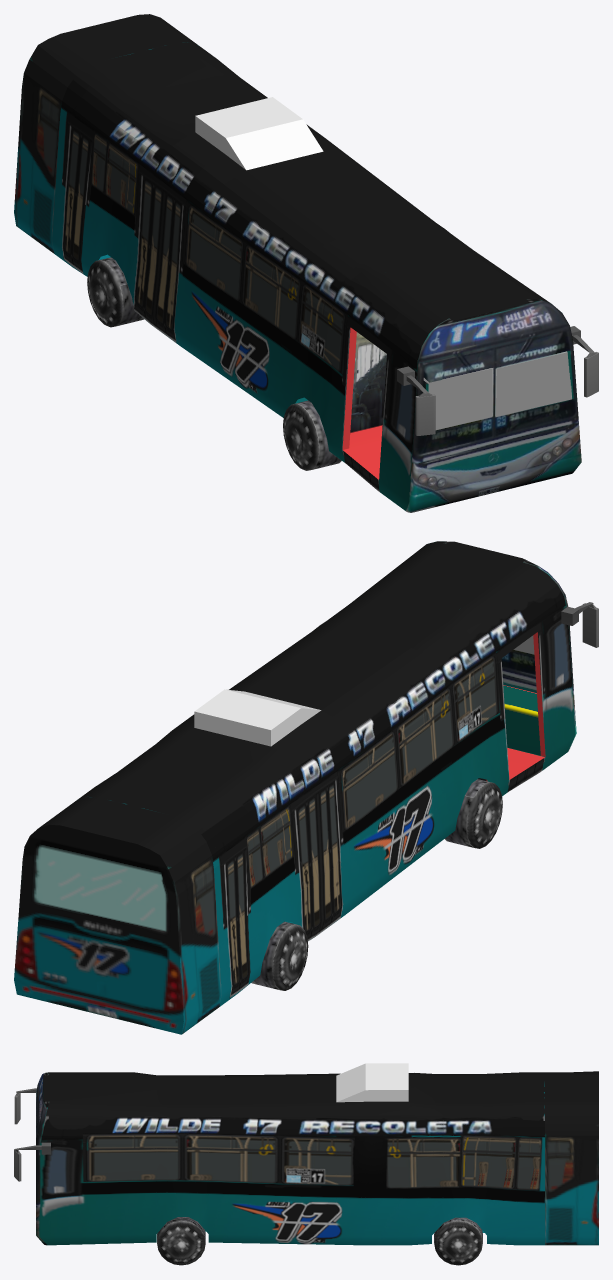
The model's file is Bondi.fbx.
3 views of the same model, one above another, from view 1: azimuth 30°, elevation 25°; view 2: azimuth 150°, elevation 25°; view 3: azimuth 270°, elevation 25° (orthographic). The views are drawn at different scales.
Parts seen in each view (by area): view 1: pCube8; view 2: pCube8; view 3: pCube8.
Part boxes in pixels (x1,y1,x2,y2): pCube8: [14, 14, 598, 512]; pCube8: [14, 541, 598, 1034]; pCube8: [14, 1063, 598, 1265].
Bounding box in the file's own units: 7.85 × 8.35 × 28.25.
Materials: 2 (1 with a texture image).
